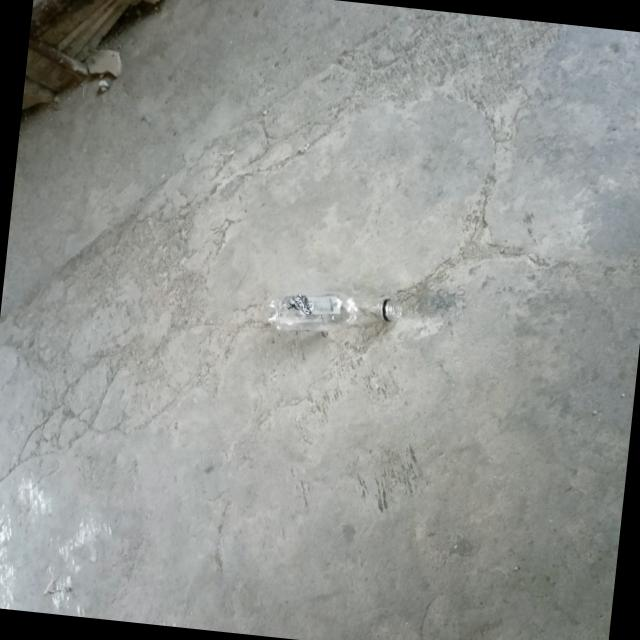Bottle: (267, 292, 401, 332)
